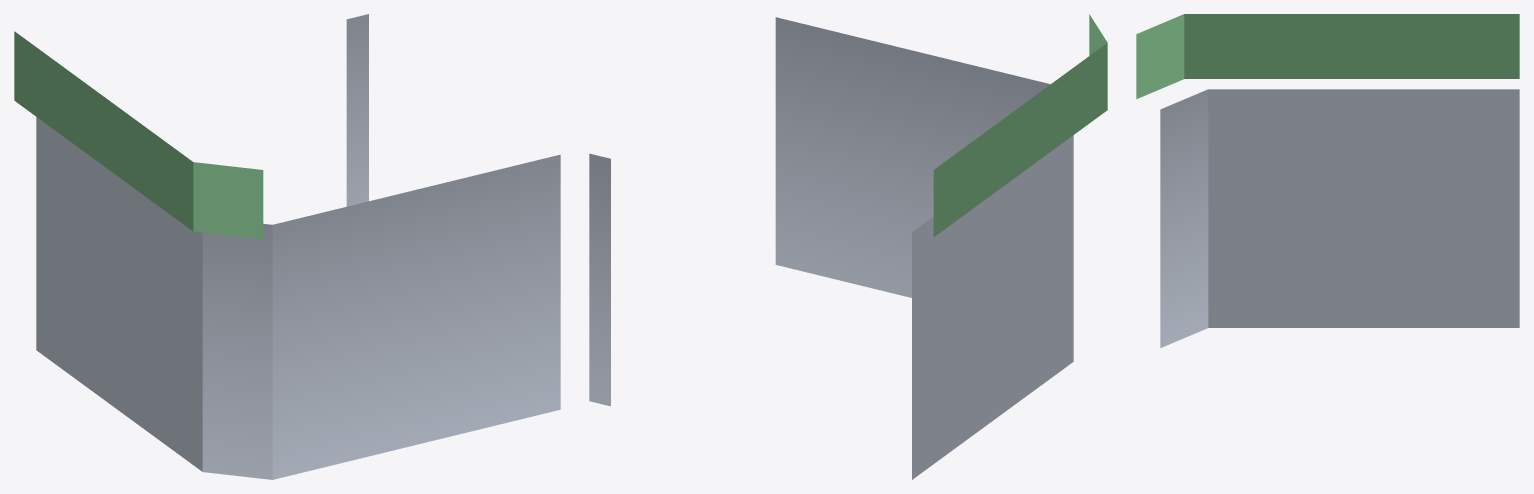
3 views of the same model, side by side, from view 1: azimuth 30°, elevation 25°; view 2: azimuth 150°, elevation 25°; view 3: azimuth 270°, elevation 25° (orthographic). The views are drawn at different scales.
Bounding box in the file's own units: 1 × 0.875 × 1.
Materials: 1 (1 with a texture image).
